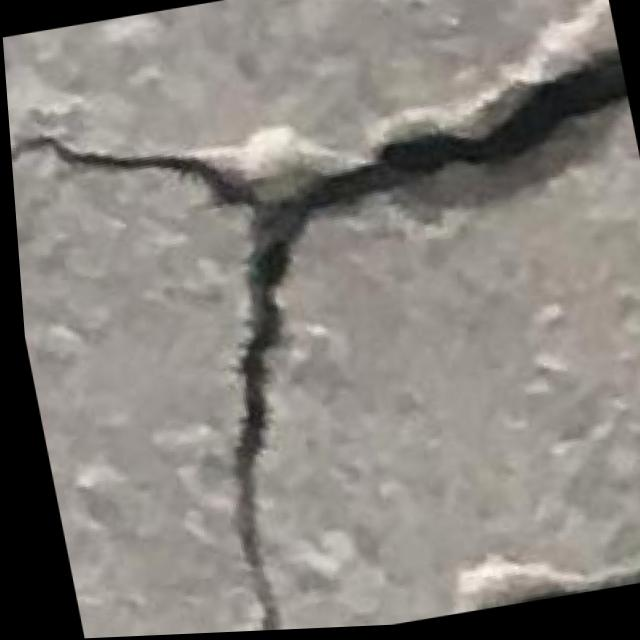Crack: (2, 6, 640, 640), (435, 468, 640, 616)
